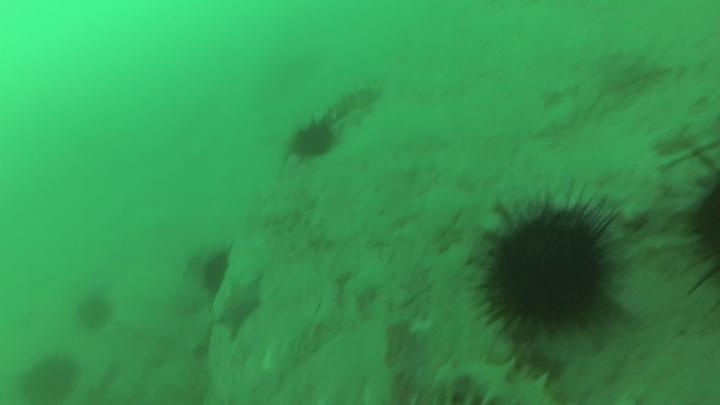echinus: (480, 199, 616, 338), (283, 110, 340, 165), (200, 249, 234, 296)
holothurian: (425, 344, 567, 405), (332, 82, 384, 119)
